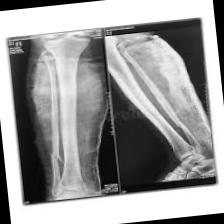comminuted-fracture: (8, 18, 222, 206)
